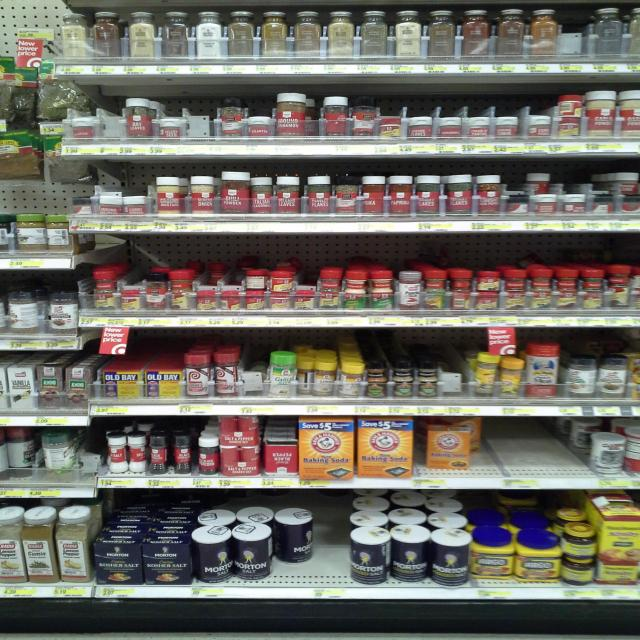empty: (488, 424, 567, 473), (313, 508, 349, 585)
